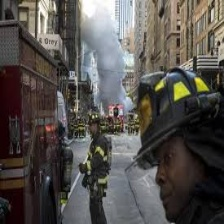smoke: (83, 6, 130, 104)
